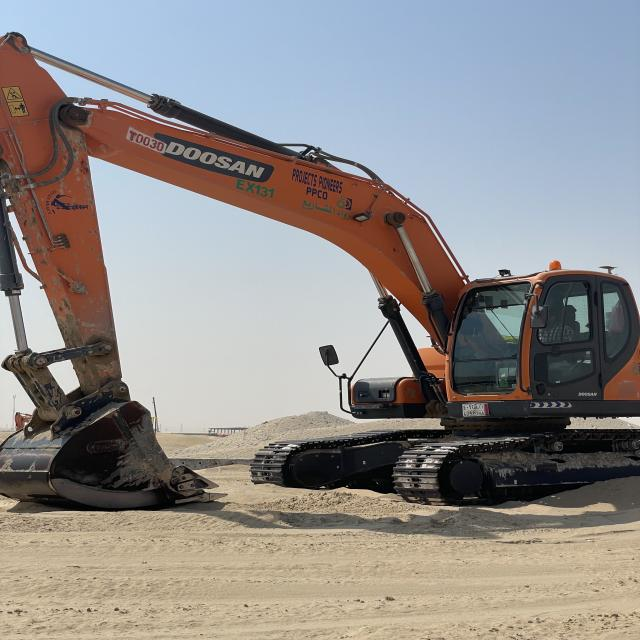Excavator: (3, 29, 638, 512)
